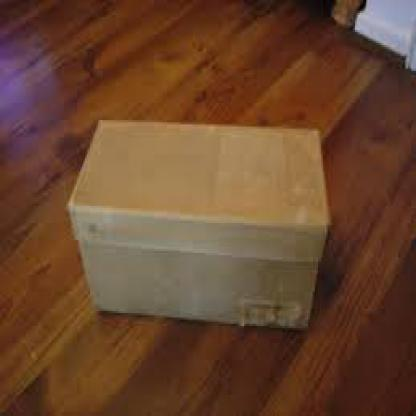CARDBOARD: (64, 116, 331, 330)
